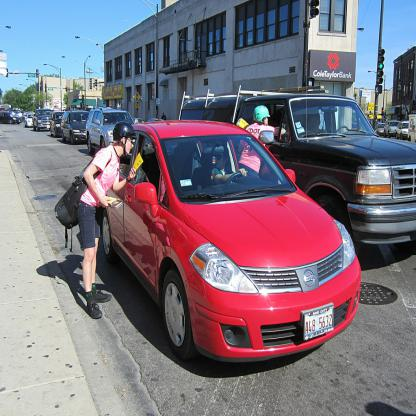Car: (0, 106, 410, 361)
